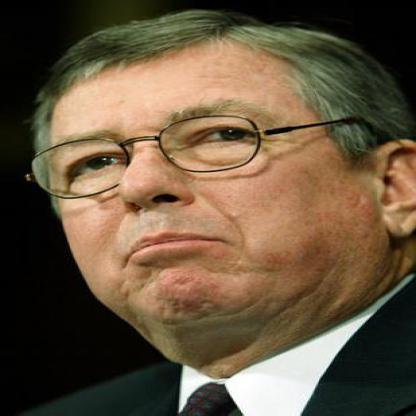face: (16, 20, 382, 337)
